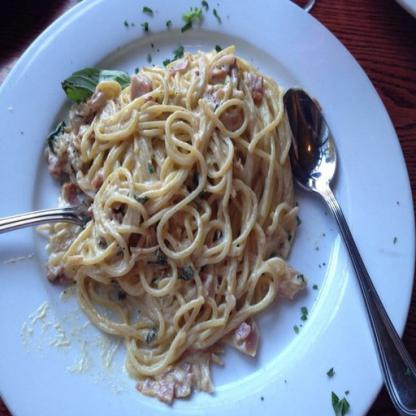pasta: (51, 51, 307, 387)
